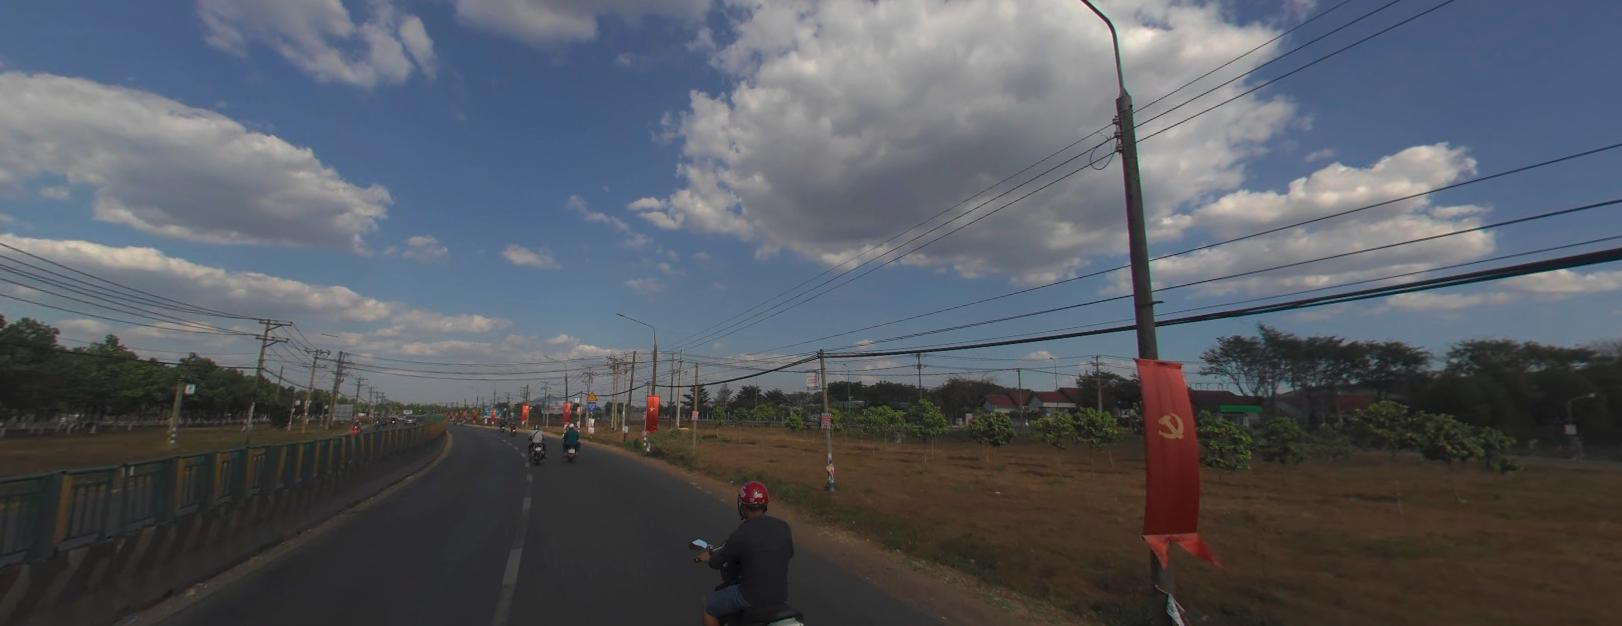Nguy hiem: (585, 390, 597, 399)
